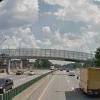Car: (1, 69, 16, 96)
